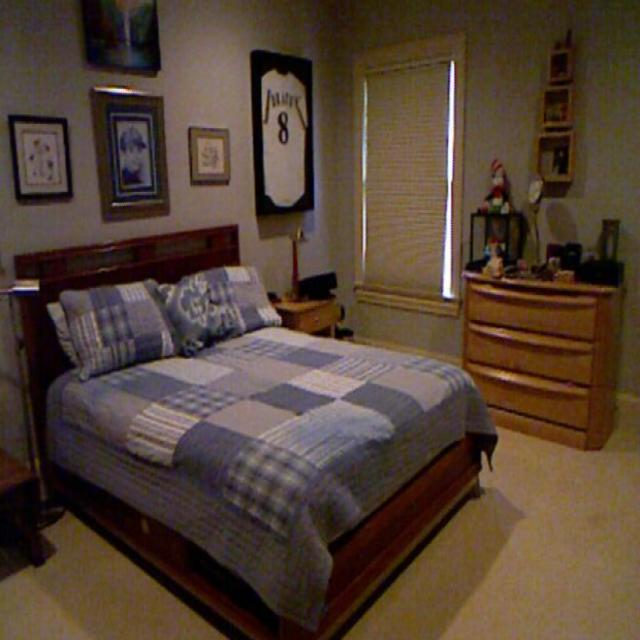bed: (75, 266, 484, 604)
beside table: (457, 231, 604, 459)
window: (360, 54, 462, 309)
